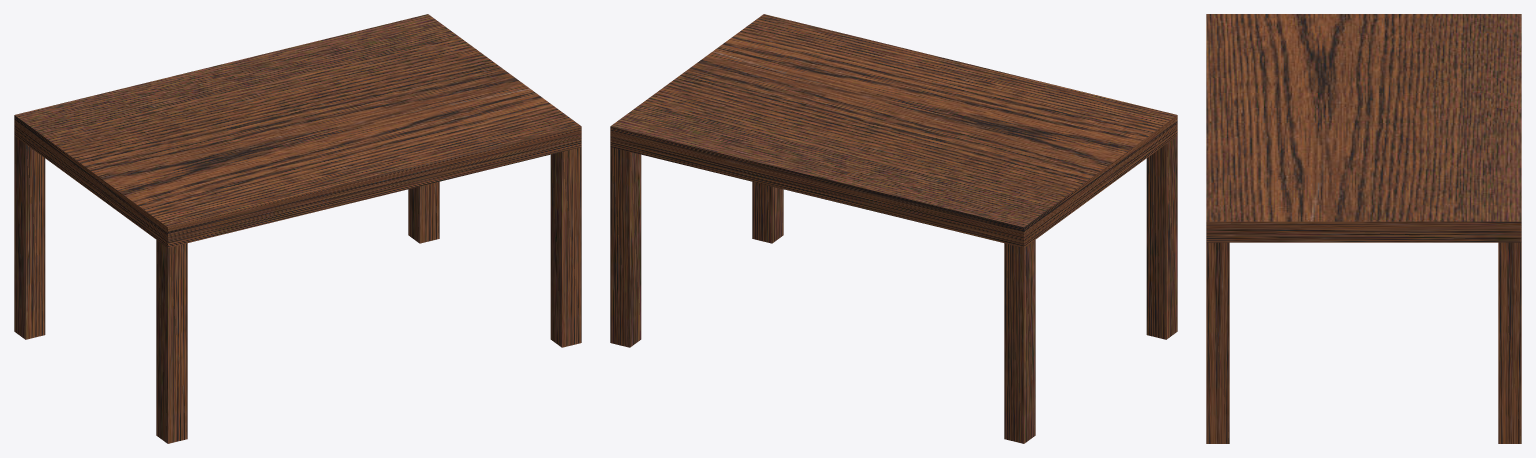
The model's file is Table_Wood.glb.
The picture shows the model from 3 angles, left to right: view 1: azimuth 30°, elevation 25°; view 2: azimuth 150°, elevation 25°; view 3: azimuth 270°, elevation 25°; orthographic projection. The views are drawn at different scales.
Parts seen in each view (by area): view 1: Table; view 2: Table; view 3: Table.
Boxes of the visible parts, x1=… form: Table: x1=14, y1=14, x2=581, y2=443; Table: x1=610, y1=14, x2=1177, y2=443; Table: x1=1206, y1=14, x2=1521, y2=443.
Bounding box in the file's own units: 1.68 × 0.8391 × 1.08.
Materials: 2 (2 with a texture image).
